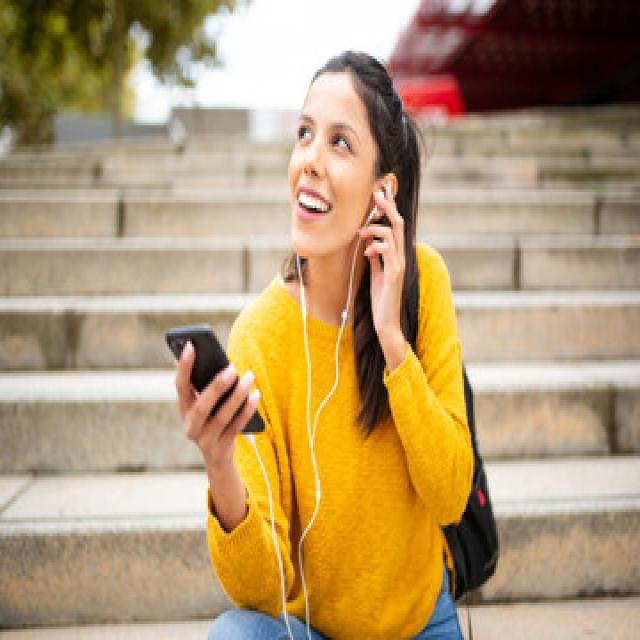Earphone: (244, 183, 386, 640)
